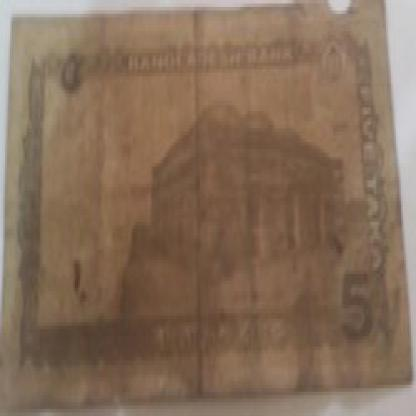Five Taka: (333, 256, 379, 378), (336, 260, 380, 364), (53, 45, 88, 97)
